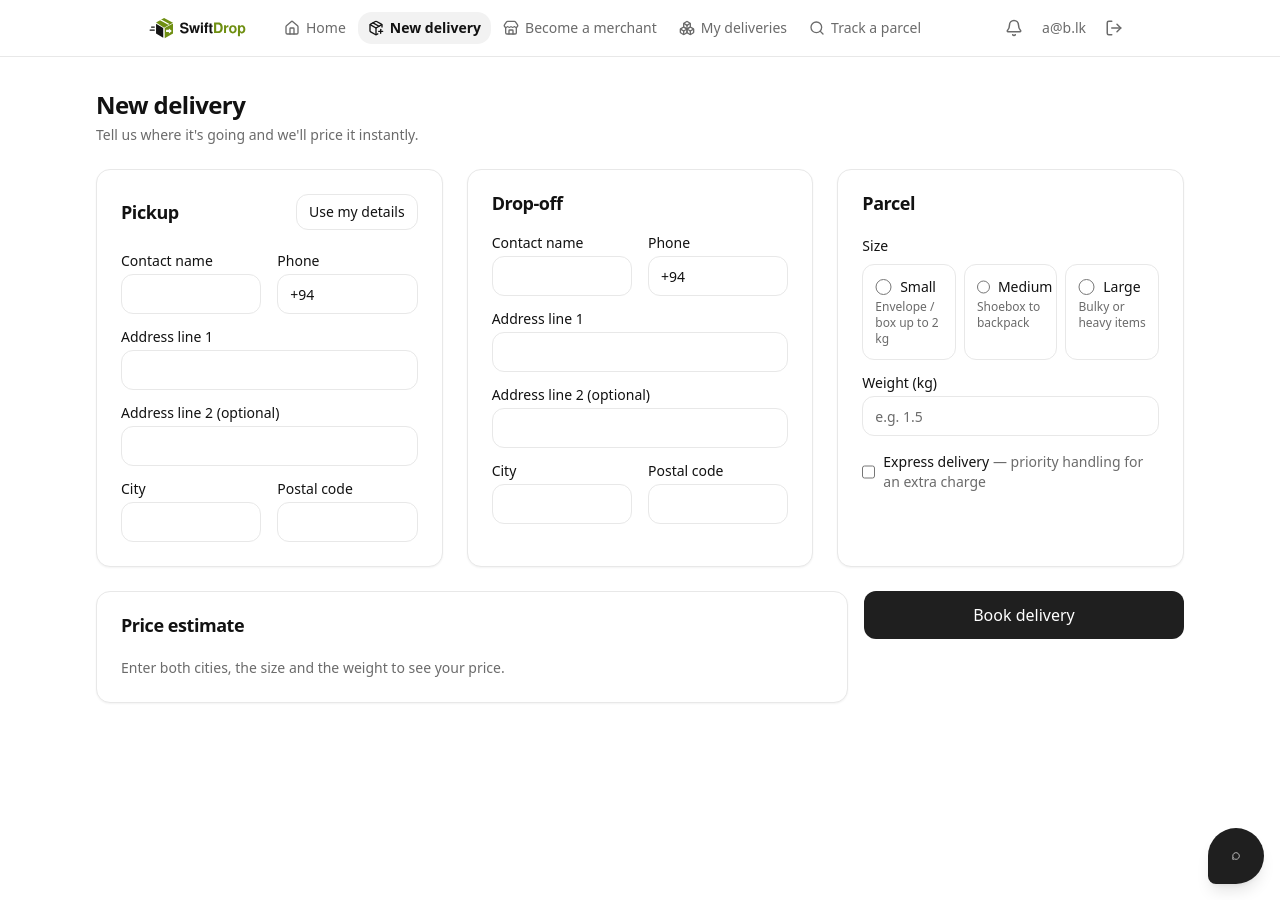
it: booking form › applies every saved pickup detail
Check: the heading "New delivery" is shown, box [96,88,245,121]
Click the button "Use my details": (357, 212) [296,194,418,230]
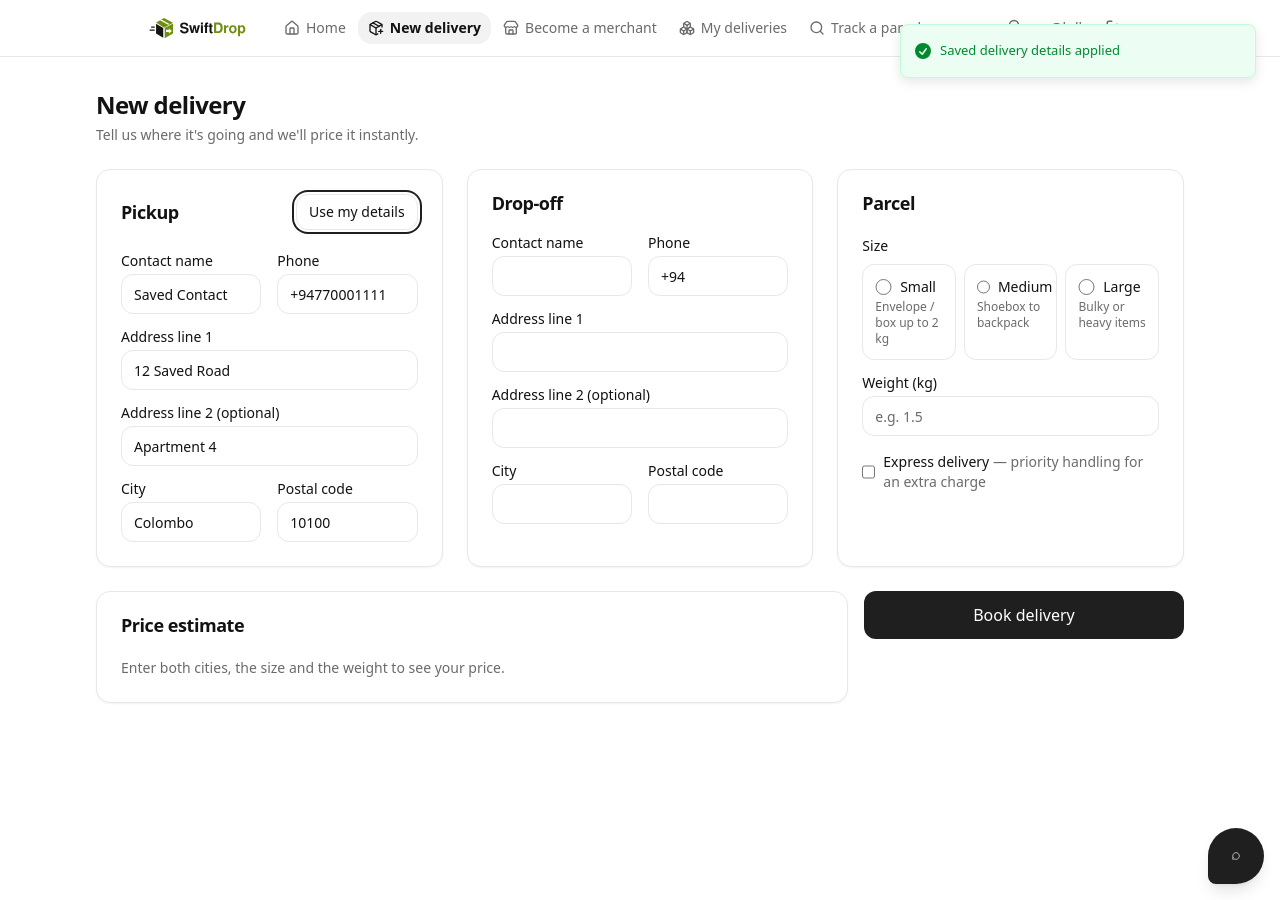
Check: the field labelled "Phone" below "Pickup" holds "+94770001111", box [277,274,418,314]
Check: the field labelled "Address line 1" below "Pickup" holds "12 Saved Road", box [121,350,418,390]
Check: the field labelled "Address line 2 (optional)" below "Pickup" holds "Apartment 4", box [121,426,418,466]
